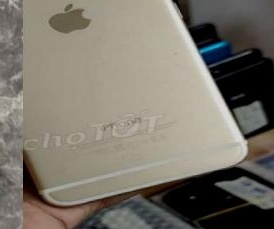scratch: (165, 46, 185, 60)
